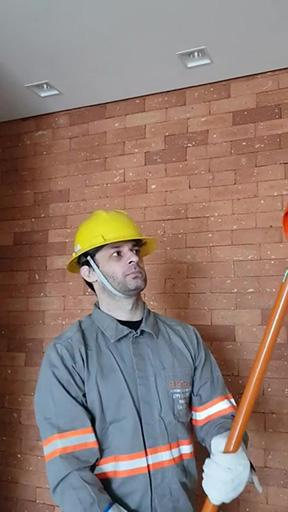Vara_Manobra: (196, 267, 288, 510)
